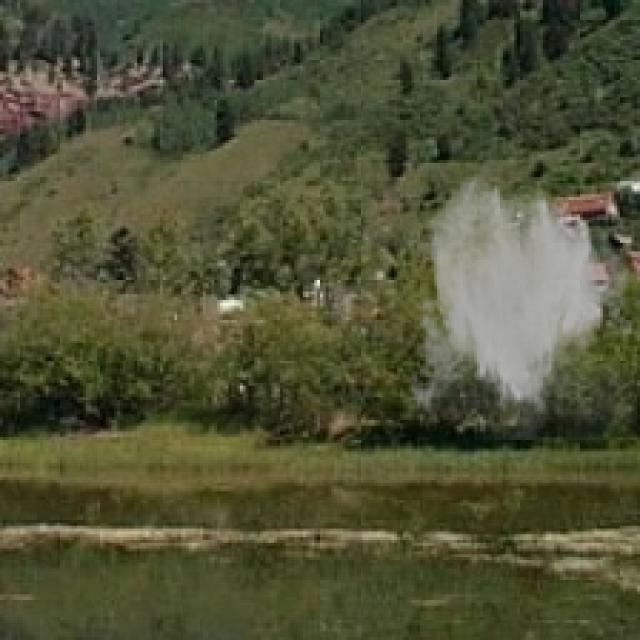smoke: (403, 171, 637, 440)
